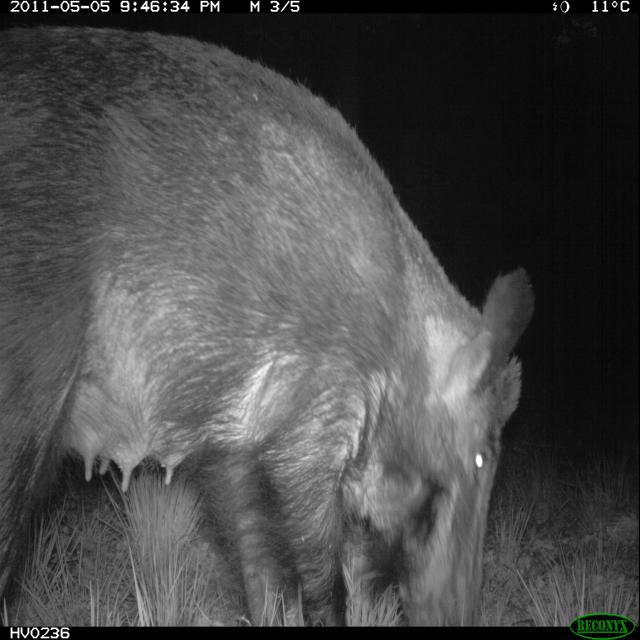boar: (0, 16, 594, 636)
